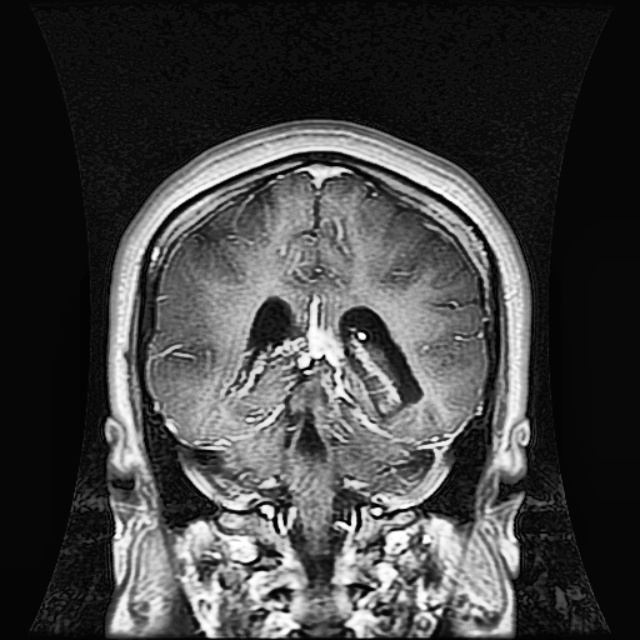Meningioma: (230, 328, 402, 434)
